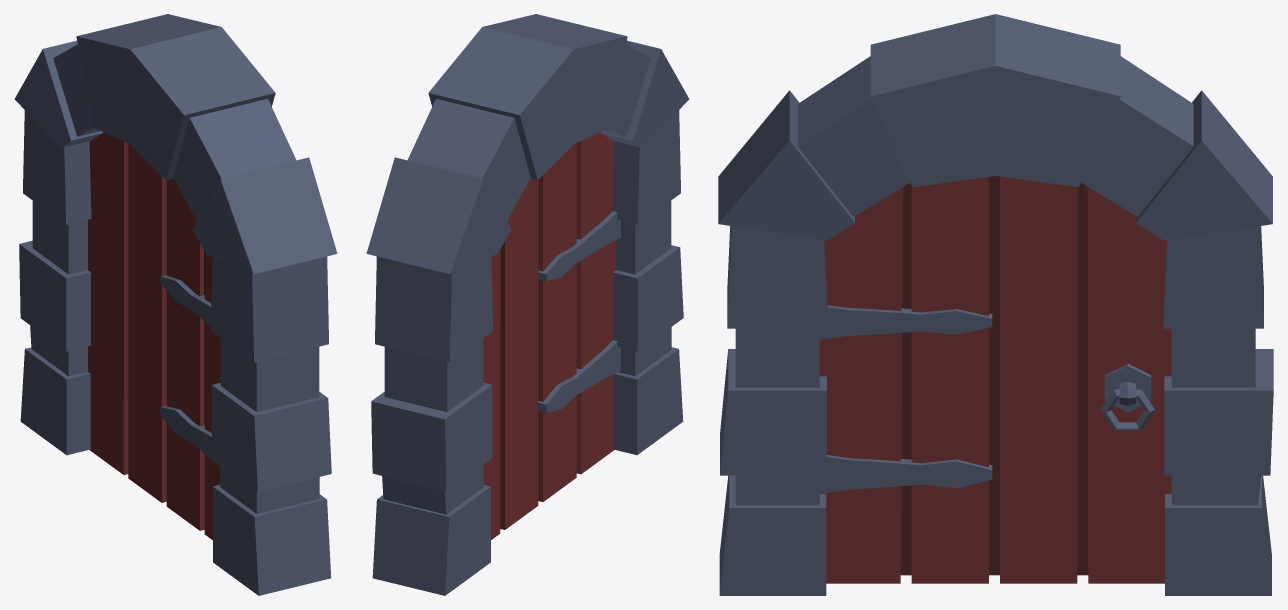
File: door (3).fbx
The picture shows the model from 3 angles, left to right: view 1: azimuth 30°, elevation 25°; view 2: azimuth 150°, elevation 25°; view 3: azimuth 270°, elevation 25°; orthographic projection. The views are drawn at different scales.
Visible parts, largest first — view 1: door arc, door.013; view 2: door arc, door.013; view 3: door arc, door.013.
Boxes of the visible parts, left/top/right/bottom form: door arc: left=14, top=14, right=337, bottom=595; door.013: left=88, top=132, right=220, bottom=539; door arc: left=366, top=14, right=689, bottom=595; door.013: left=483, top=132, right=620, bottom=539; door arc: left=718, top=14, right=1273, bottom=595; door.013: left=819, top=176, right=1171, bottom=583.
Bounding box in the file's own units: 73.09 × 354 × 331.
